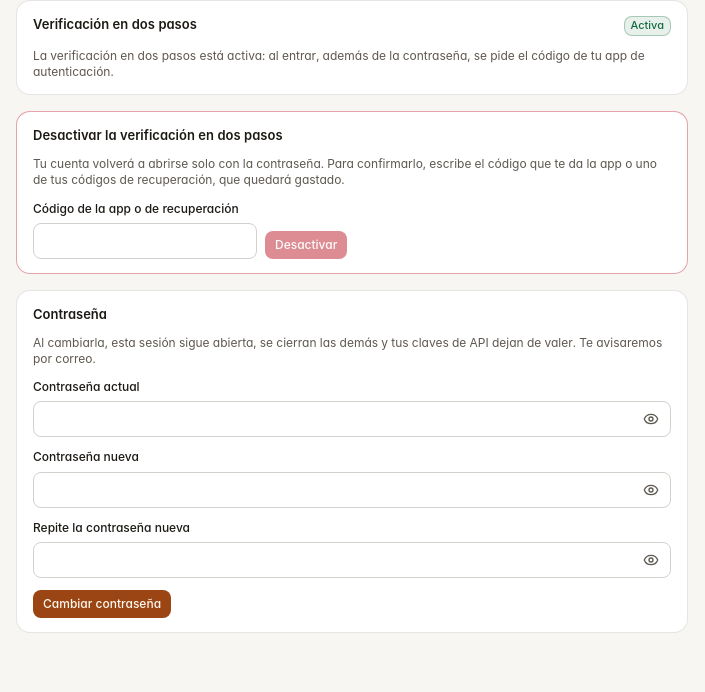
Seguridad: baja › un código que no vale no desactiva nada
The image size is (705, 692).
In the field labelled "Código de la app o de recuperación": coordinates (145, 241) [33,223,257,259], type "111111"
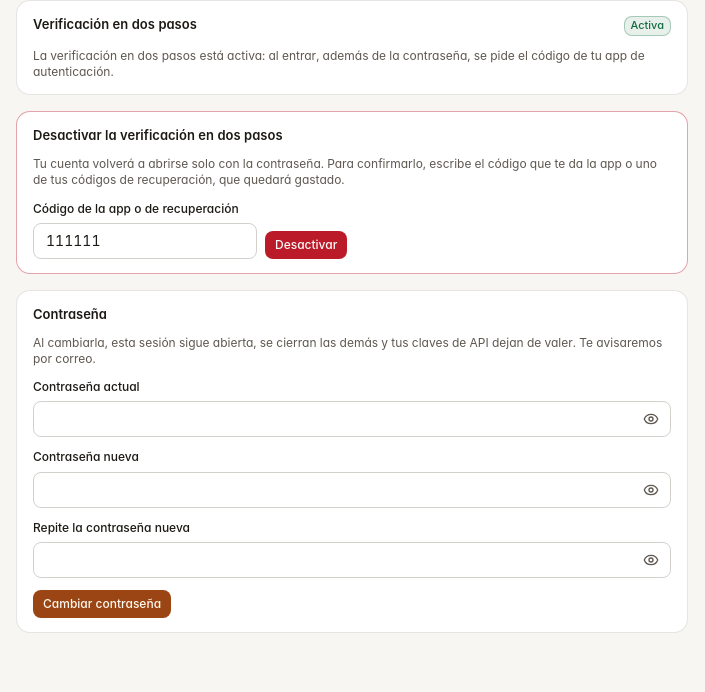
Click the button "Desactivar": coordinates (306, 245) [265,231,347,259]
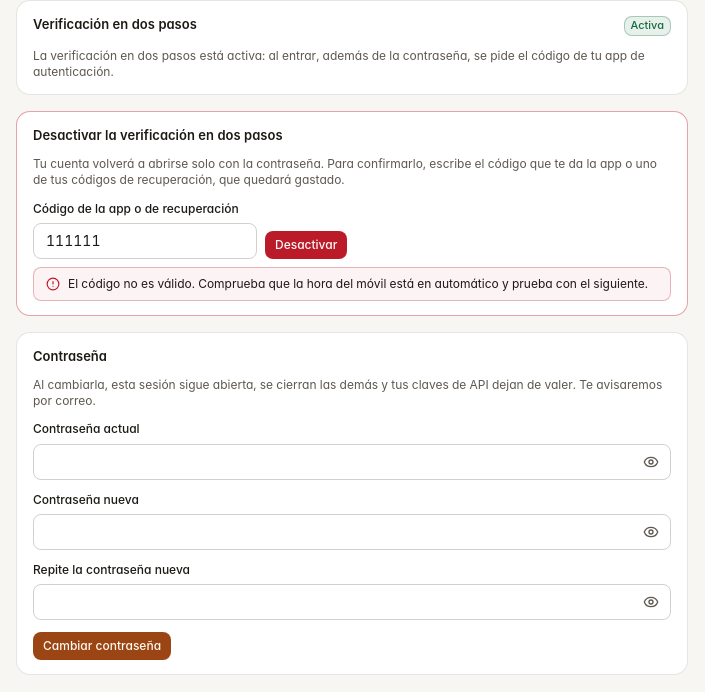
Expected: the text "El código no es válido" is shown, [68,276,648,291]
